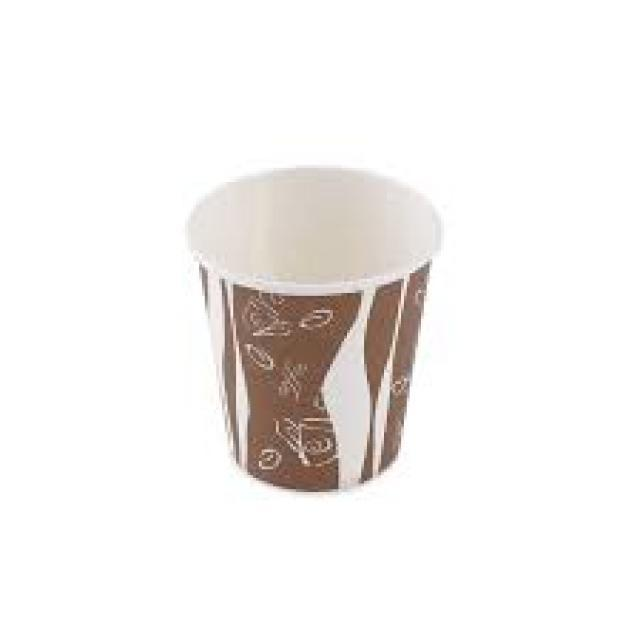trash: (182, 164, 446, 496)
